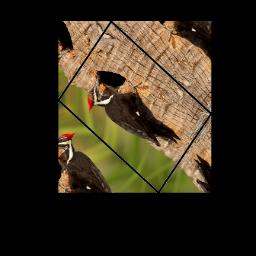Woodpecker: (79, 54, 191, 176)
